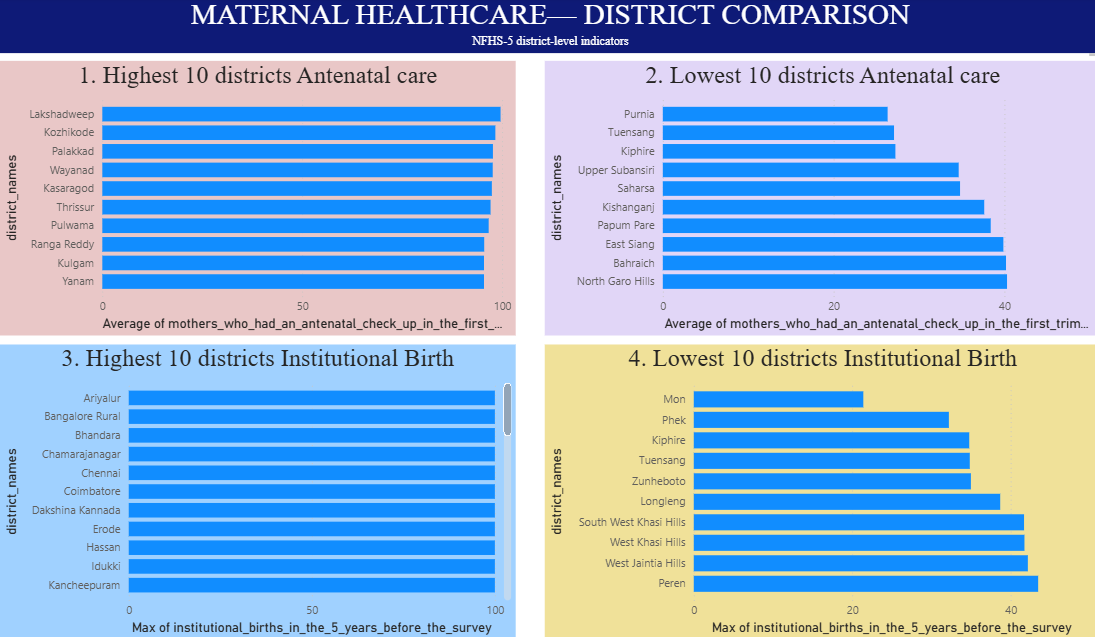

Layout of this report page (visuals, bound fields, positions):
{"tool":"powerbi","page":{"name":"Page 3","canvas":[1280,720],"ordinal":2},"visuals":[{"type":"clusteredBarChart","title":"1. Highest Antenatal care","fields":{"Y":["Avg(nfhs_cleaned.mothers_who_had_an_antenatal_check_up_in_the_first_trimester_for_last_birth_in_the_5_years_before_the_s"],"Category":["nfhs_cleaned.district_names"]},"box":[9.6,70,566.7,301.9],"z":0},{"type":"clusteredBarChart","title":"2. Lowest Antenatal care","fields":{"Y":["Avg(nfhs_cleaned.mothers_who_had_an_antenatal_check_up_in_the_first_trimester_for_last_birth_in_the_5_years_before_the_s"],"Category":["nfhs_cleaned.district_names"]},"box":[607.9,70,610.6,301.9],"z":1000},{"type":"clusteredBarChart","title":"3. Highest Institutional Birth","fields":{"Category":["nfhs_cleaned.district_names"],"Y":["Avg(nfhs_cleaned.institutional_births_in_public_facility_in_the_5_years_before_the_survey)"]},"box":[9.6,381.5,566.7,323.8],"z":2000},{"type":"clusteredBarChart","title":"4. Lowest Institutional Birth","fields":{"Category":["nfhs_cleaned.district_names"],"Y":["Avg(nfhs_cleaned.institutional_births_in_public_facility_in_the_5_years_before_the_survey)"]},"box":[608,382,611,302],"z":3000}]}

Visuals, with their boxes on the page's 1280x720 design canvas (x1, y1, x2, y2). These are canvas units, not pixel positions in the 1095x637 screenshot, which may show the page scaled, cropped or inside an application window:
"1. Highest Antenatal care" clusteredBarChart: (x1=10, y1=70, x2=576, y2=372)
"2. Lowest Antenatal care" clusteredBarChart: (x1=608, y1=70, x2=1218, y2=372)
"3. Highest Institutional Birth" clusteredBarChart: (x1=10, y1=382, x2=576, y2=705)
"4. Lowest Institutional Birth" clusteredBarChart: (x1=608, y1=382, x2=1219, y2=684)
